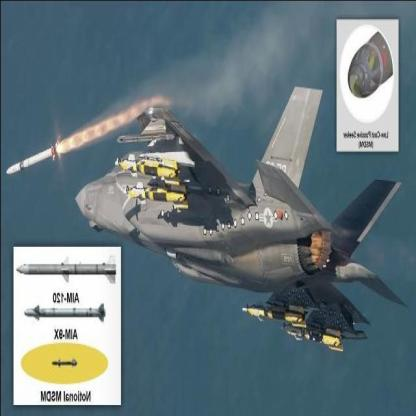MIL_TBM: (16, 254, 120, 288), (22, 303, 111, 322), (6, 146, 60, 174)
